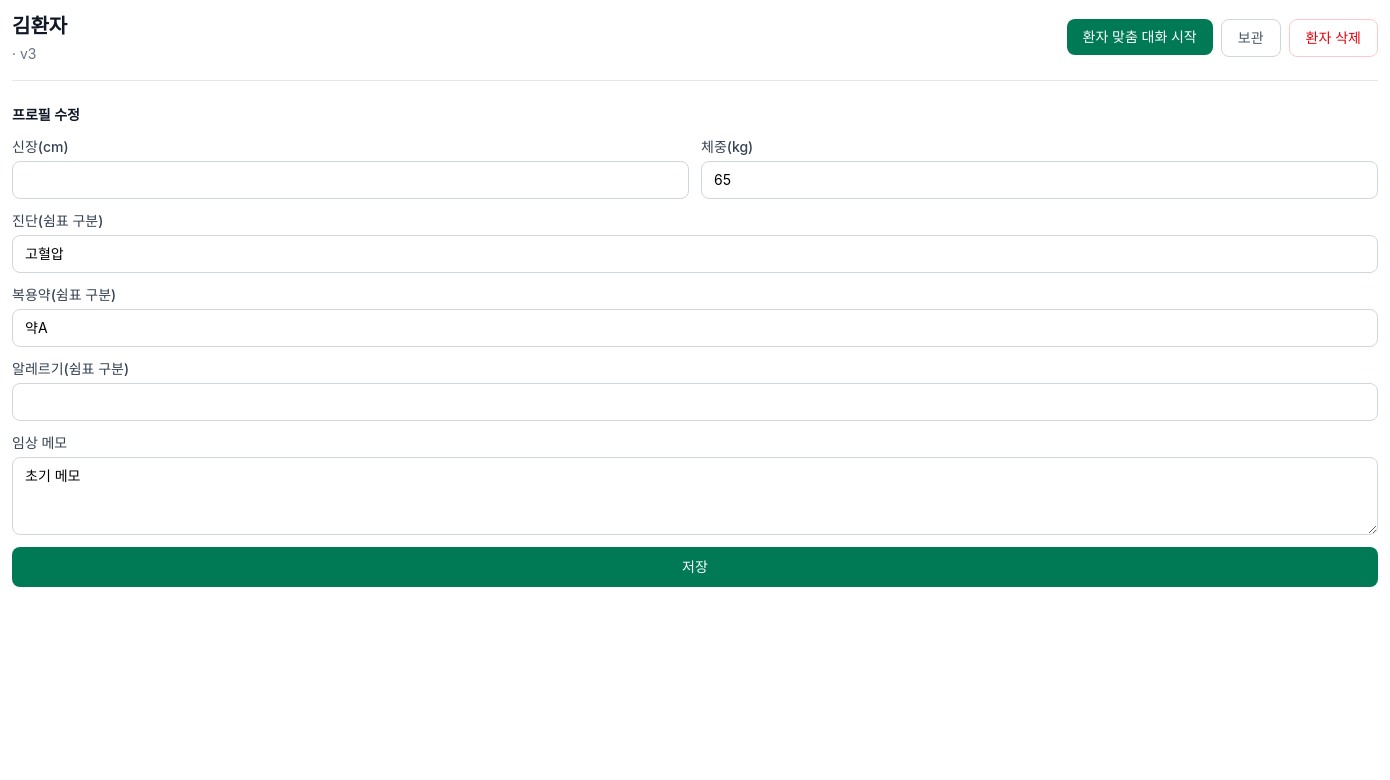
환자 상세 패널 › 기준 12: 로드된 version을 PATCH body에 포함하고 충돌 서버 메시지를 alert로 렌더한다
Replace the text in the number field labelled "체중(kg)" with "67" at (1040, 180), box [701, 161, 1378, 199]
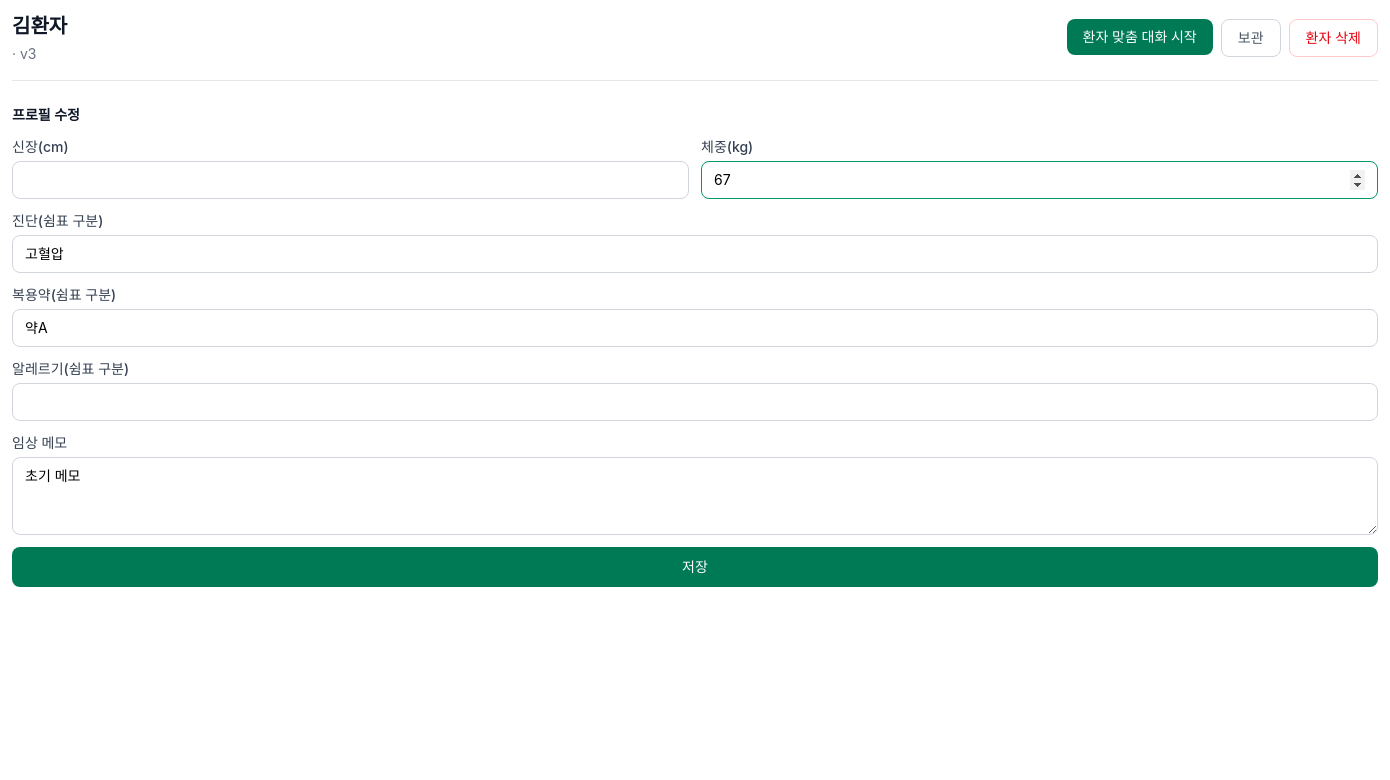
Replace the text in the text box labelled "임상 메모" with "수정 메모" at (695, 496), box [12, 457, 1378, 535]
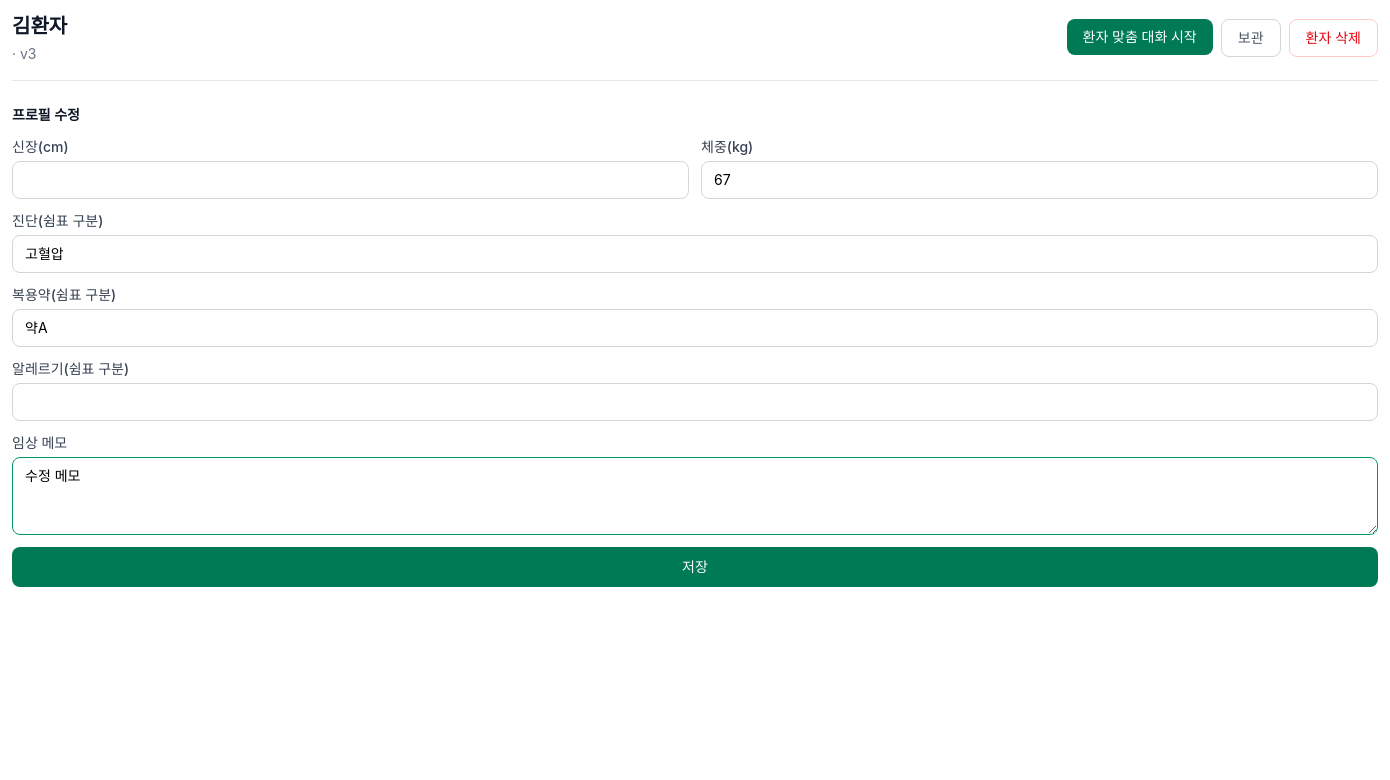
Click the button "저장" at (695, 567), box [12, 547, 1378, 587]
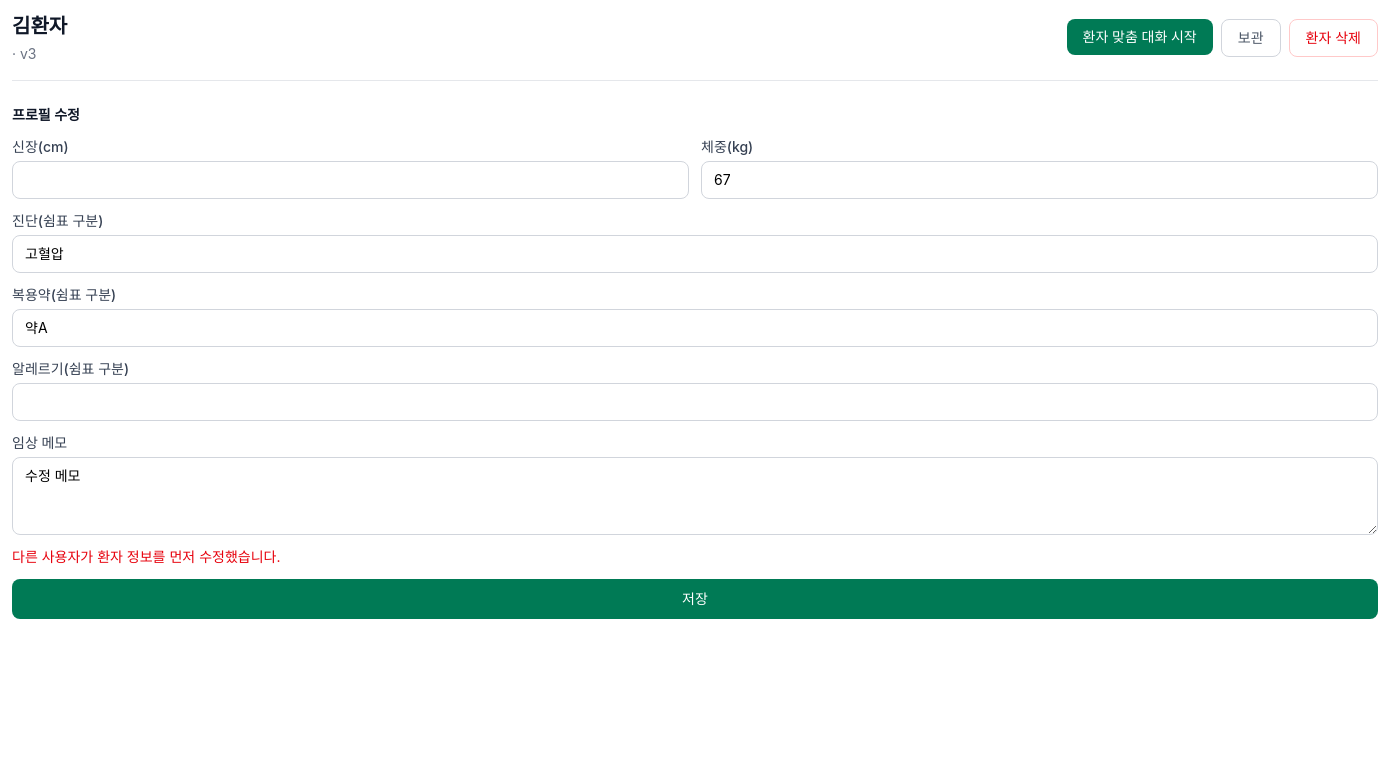
expect the message reads "다른 사용자가 환자 정보를 먼저 수정했습니다.": met, box [12, 548, 280, 565]
